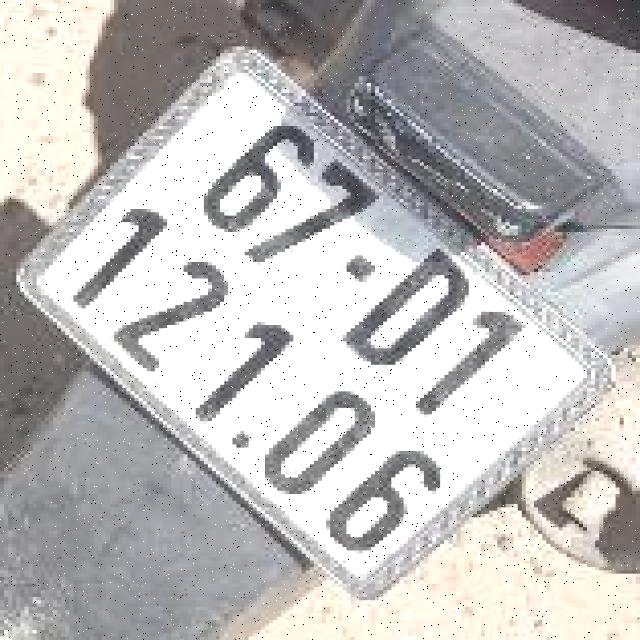0: (245, 370, 399, 518)
1: (392, 297, 548, 433), (57, 190, 193, 332), (173, 302, 311, 440)
2: (98, 243, 261, 391)
6: (184, 109, 342, 247), (306, 431, 467, 566)
7: (229, 149, 399, 289)
D: (322, 232, 492, 383)
